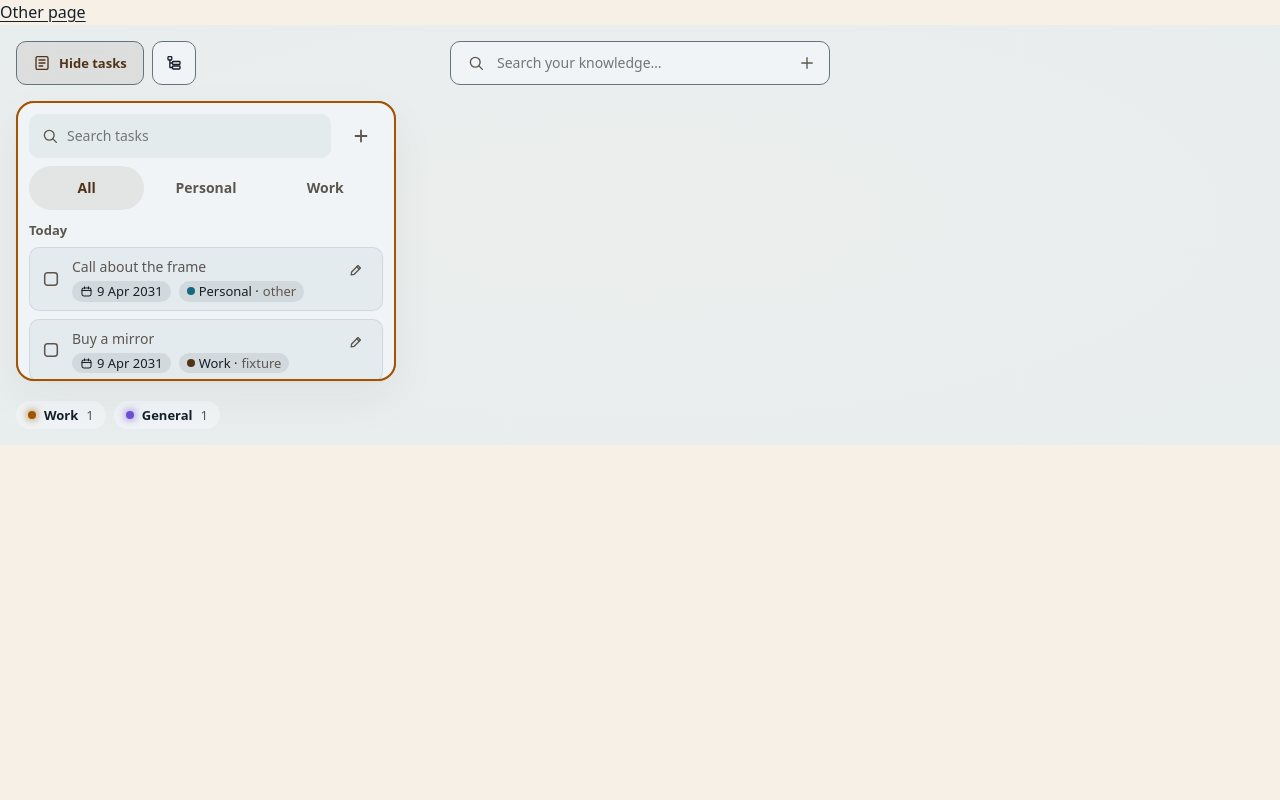
it: Notes workflow › puts the task list away when a task’s note opens on a narrow screen
The image size is (1280, 800).
Click the link with aria-label "Open source note Work/fixture.md, line 3" at (234, 363), box [179,353,289,373]
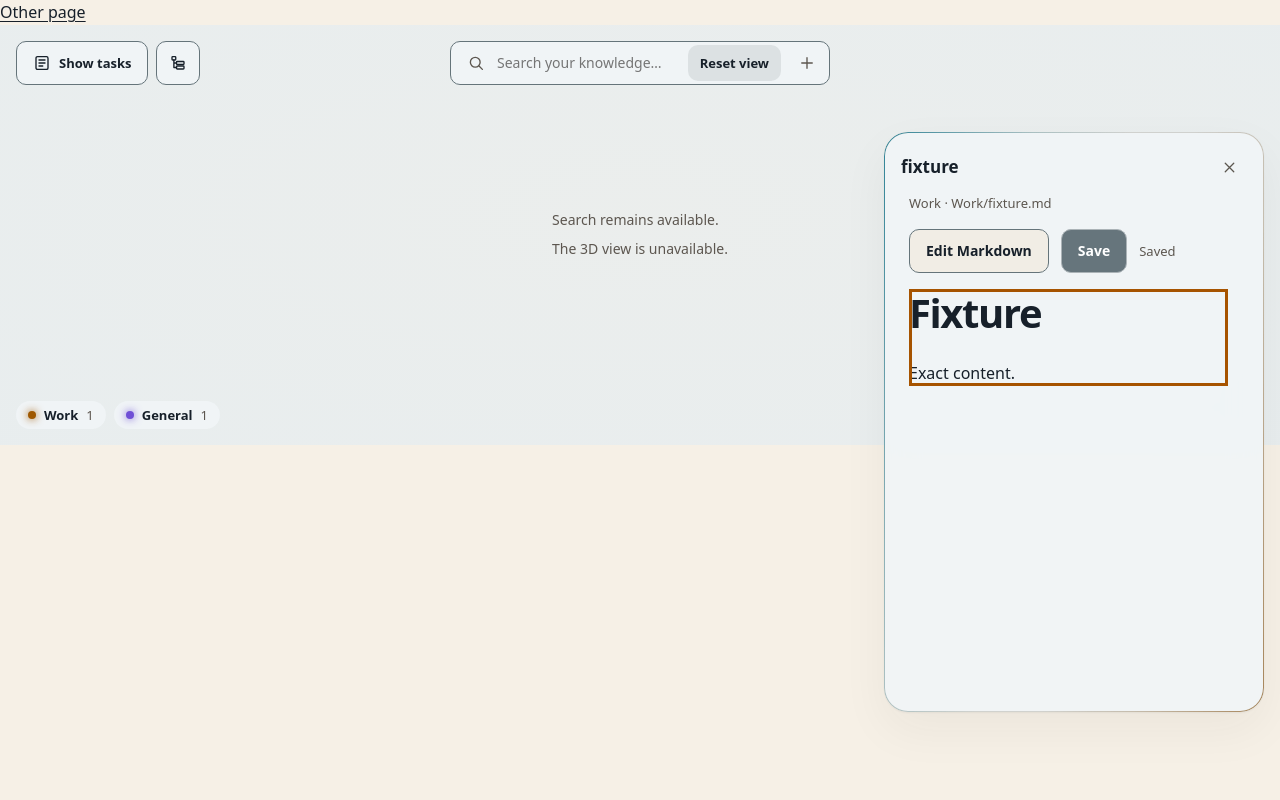
Check: the dialog "fixture" is shown, box [884,132,1264,712]
